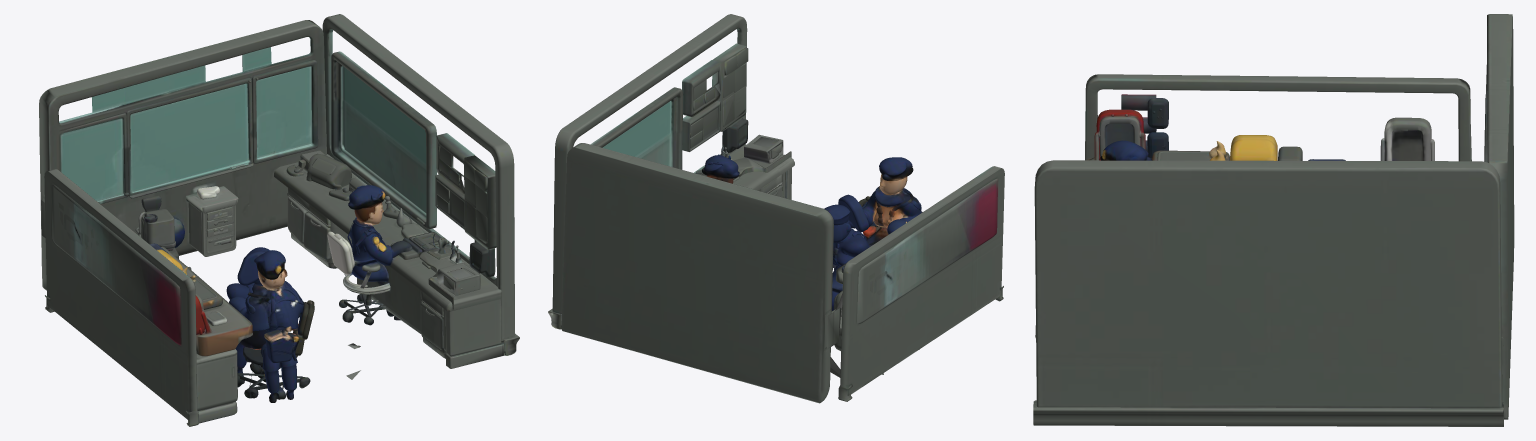
Rendered from toonstudio_police_station.glb.
3 renders of one model, left to right at view 1: azimuth 30°, elevation 25°; view 2: azimuth 150°, elevation 25°; view 3: azimuth 270°, elevation 25°, orthographic. The views are drawn at different scales.
Parts seen in each view (by area): view 1: c14a8d6b_2f45_4e44_8c73_91ffdc7209e4; view 2: c14a8d6b_2f45_4e44_8c73_91ffdc7209e4; view 3: c14a8d6b_2f45_4e44_8c73_91ffdc7209e4.
Boxes of the visible parts, box(x1,y1,x2,y2) form: c14a8d6b_2f45_4e44_8c73_91ffdc7209e4: box(39, 14, 519, 426); c14a8d6b_2f45_4e44_8c73_91ffdc7209e4: box(548, 14, 1004, 403); c14a8d6b_2f45_4e44_8c73_91ffdc7209e4: box(1033, 14, 1514, 426).
Bounding box in the file's own units: 2.86 × 2 × 3.
1 material, 1 textured.
